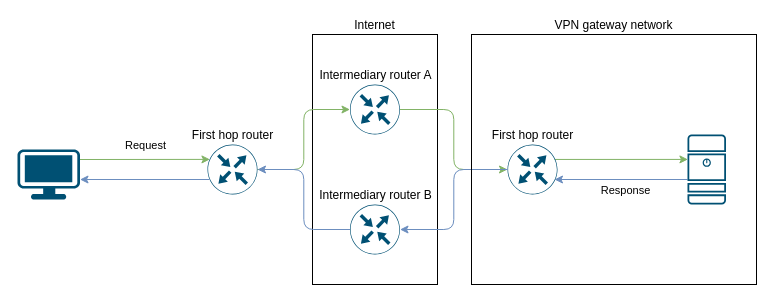
Some shapes in this 774 by 302 pixel diagram are drawn without their labels. Here are the shapes that lost their labels. From the top down, the centre of each, then its label:
At (48,174): "Client".
At (706,169): "Server".
